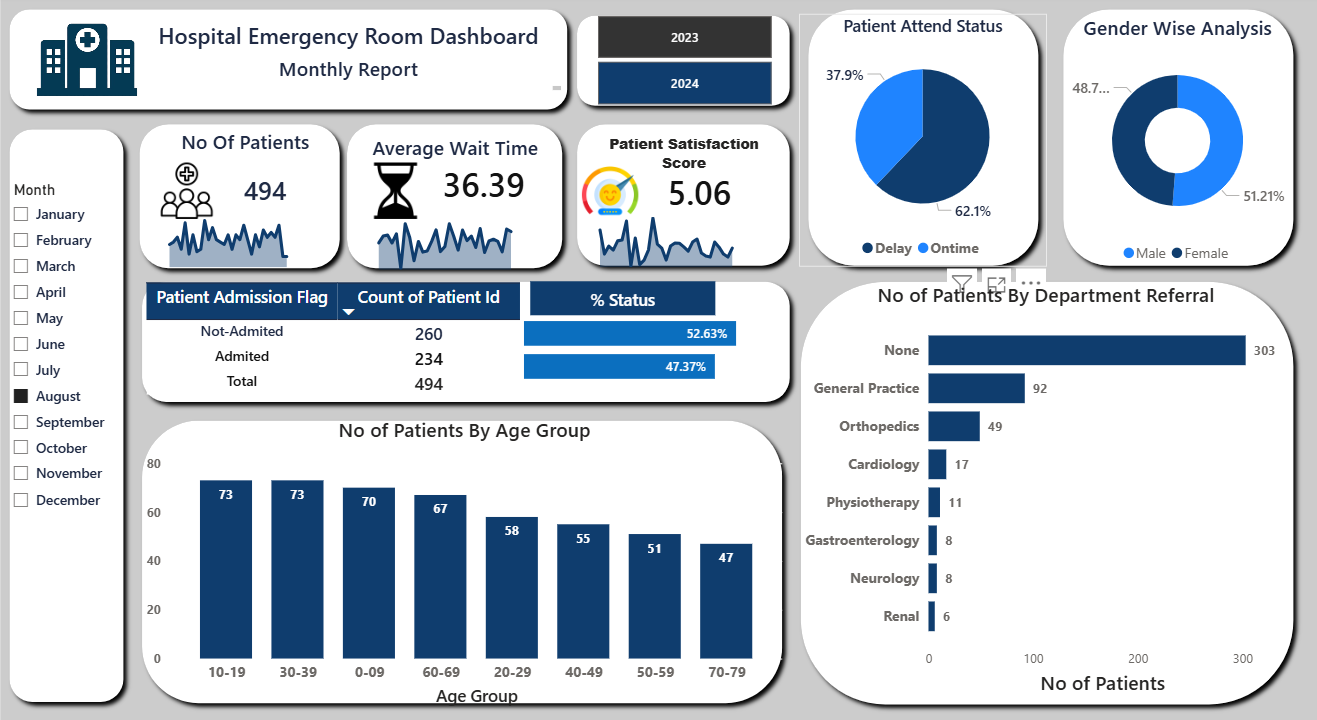

The dashboard page shown, as its layout file describes it:
{"tool":"powerbi","page":{"name":"Dashboard","canvas":[1280,720],"ordinal":1},"visuals":[{"type":"areaChart","fields":{"Category":["Hospital Emergency Room Data.Patient Age"]},"box":[11,0,1269.3,697],"z":0},{"type":"shape","box":[10.8,0,555.4,114.5],"z":1000},{"type":"shape","box":[557.8,6,222.9,104.8],"z":2000},{"type":"shape","box":[780.7,0,239.8,265.1],"z":3000},{"type":"shape","box":[10.8,115.7,127.7,569.9],"z":5000},{"type":"shape","box":[136.1,110.8,210.8,156.6],"z":6000},{"type":"shape","box":[336.1,110.8,225.3,156.6],"z":7000},{"type":"shape","box":[557.8,110.8,222.9,154.2],"z":8000},{"type":"shape","box":[138.6,396.4,634.9,290.4],"z":9000},{"type":"shape","box":[138.6,262.7,642.2,133.7],"z":10000},{"type":"shape","box":[773.5,262.7,492.8,425.3],"z":11000},{"type":"textbox","title":"Hospital Emergency Room Dashboard","box":[136.1,13.3,420.5,78.3],"z":12000},{"type":"image","box":[26.5,6,133.7,104.8],"z":13000},{"type":"textbox","box":[157.8,116.9,178.3,39.8],"z":14000},{"type":"textbox","box":[347,122.9,204.8,38.6],"z":15000},{"type":"textbox","box":[169,187.5,187.5,66],"z":16000},{"type":"cardVisual","fields":{"Data":["Count(Hospital Emergency Room Data.Patient Id)"]},"box":[220.5,156.6,115.7,54.2],"z":17000},{"type":"cardVisual","fields":{"Data":["Avg(Hospital Emergency Room Data.Patient Waittime)"]},"box":[408.4,144.6,148.2,66.3],"z":18000},{"type":"cardVisual","fields":{"Data":["Avg(Hospital Emergency Room Data.Patient Satisfaction Score)"]},"box":[625.3,151.8,148.2,66.3],"z":19000},{"type":"textbox","box":[569.9,122.9,200,55.4],"z":20000},{"type":"image","box":[569.9,156.6,57.8,54.2],"z":21000},{"type":"image","box":[160.2,156.6,60.2,54.2],"z":22000},{"type":"image","box":[361.4,156.6,60.2,54.2],"z":23000},{"type":"columnChart","title":"No of Patients By Age Group","fields":{"Category":["Hospital Emergency Room Data.Age Group"],"Y":["CountNonNull(Hospital Emergency Room Data.Age Group)"]},"box":[147,401.2,622.9,284.3],"z":31000},{"type":"pieChart","title":"Patient Attend Status","fields":{"Category":["Hospital Emergency Room Data.Patient attend status"],"Y":["CountNonNull(Hospital Emergency Room Data.Patient attend status)"]},"box":[780.7,13.3,238.6,244.6],"z":33000},{"type":"barChart","title":"No of Patients By Department Referral","fields":{"Category":["Hospital Emergency Room Data.Department Referral"],"Y":["CountNonNull(Hospital Emergency Room Data.Department Referral)"]},"box":[780.7,271.1,475.9,403.6],"z":37000},{"type":"stackedAreaChart","fields":{"Category":["Calendar_Table.Date.Variation.Date Hierarchy.Day"],"Y":["Count(Hospital Emergency Room Data.Patient Id)"]},"box":[155.4,196.4,180.7,66.3],"z":40001},{"type":"slicer","fields":{"Values":["Calendar_Table.Date.Variation.Date Hierarchy.Month"]},"box":[10.8,169.9,116.9,495.2],"z":40002},{"type":"stackedAreaChart","fields":{"Category":["Calendar_Table.Date.Variation.Date Hierarchy.Day"],"Y":["Avg(Hospital Emergency Room Data.Patient Waittime)"]},"box":[356.6,198.8,200,66.3],"z":40003},{"type":"stackedAreaChart","fields":{"Category":["Calendar_Table.Date.Variation.Date Hierarchy.Day"],"Y":["Avg(Hospital Emergency Room Data.Patient Satisfaction Score)"]},"box":[569.9,196.4,200,66.3],"z":40004},{"type":"shape","box":[1026.5,0,239.8,265.1],"z":40005},{"type":"donutChart","title":"Gender Wise Analysis","fields":{"Category":["Hospital Emergency Room Data.Patient Gender"],"Y":["CountNonNull(Hospital Emergency Room Data.Patient Gender)"]},"box":[1034.9,13.3,221.7,249.4],"z":40006},{"type":"pivotTable","fields":{"Rows":["Hospital Emergency Room Data.Patient Admission Flag"],"Values":["Count(Hospital Emergency Room Data.Patient Id)"]},"box":[147,267.5,622.9,120.5],"z":40007},{"type":"barChart","title":"% Status","fields":{"Y":["CountNonNull(Hospital Emergency Room Data.Patient Admission Flag)"],"Category":["Hospital Emergency Room Data.Patient Admission Flag"]},"box":[510.8,280.7,259,107.2],"z":40008},{"type":"textbox","box":[521.7,271.1,178.3,32.5],"z":40009},{"type":"slicer","fields":{"Values":["Calendar_Table.Date.Variation.Date Hierarchy.Year"]},"box":[566.3,13.3,207.2,89.2],"z":40010}]}

Visuals, with their boxes in screenshot pixels (x1, y1, x2, y2), scaled from the page's 1280x720 canvas onto the 1317x720 screenshot:
areaChart - Hospital Emergency Room Data.Patient Age: (11, 0, 1316, 697)
shape: (11, 0, 583, 114)
shape: (574, 6, 803, 111)
shape: (803, 0, 1050, 265)
shape: (11, 116, 143, 686)
shape: (140, 111, 357, 267)
shape: (346, 111, 578, 267)
shape: (574, 111, 803, 265)
shape: (143, 396, 796, 687)
shape: (143, 263, 803, 396)
shape: (796, 263, 1303, 688)
"Hospital Emergency Room Dashboard" textbox: (140, 13, 573, 92)
image: (27, 6, 165, 111)
textbox: (162, 117, 346, 157)
textbox: (357, 123, 568, 162)
textbox: (174, 188, 367, 254)
cardVisual - Count(Hospital Emergency Room Data.Patient Id): (227, 157, 346, 211)
cardVisual - Avg(Hospital Emergency Room Data.Patient Waittime): (420, 145, 573, 211)
cardVisual - Avg(Hospital Emergency Room Data.Patient Satisfaction Score): (643, 152, 796, 218)
textbox: (586, 123, 792, 178)
image: (586, 157, 646, 211)
image: (165, 157, 227, 211)
image: (372, 157, 434, 211)
"No of Patients By Age Group" columnChart: (151, 401, 792, 686)
"Patient Attend Status" pieChart: (803, 13, 1049, 258)
"No of Patients By Department Referral" barChart: (803, 271, 1293, 675)
stackedAreaChart - Calendar_Table.Date.Variation.Date Hierarchy.Day x Count(Hospital Emergency Room Data.Patient Id): (160, 196, 346, 263)
slicer - Calendar_Table.Date.Variation.Date Hierarchy.Month: (11, 170, 131, 665)
stackedAreaChart - Calendar_Table.Date.Variation.Date Hierarchy.Day x Avg(Hospital Emergency Room Data.Patient Waittime): (367, 199, 573, 265)
stackedAreaChart - Calendar_Table.Date.Variation.Date Hierarchy.Day x Avg(Hospital Emergency Room Data.Patient Satisfaction Score): (586, 196, 792, 263)
shape: (1056, 0, 1303, 265)
"Gender Wise Analysis" donutChart: (1065, 13, 1293, 263)
pivotTable - Hospital Emergency Room Data.Patient Admission Flag x Count(Hospital Emergency Room Data.Patient Id): (151, 268, 792, 388)
"% Status" barChart: (526, 281, 792, 388)
textbox: (537, 271, 720, 304)
slicer - Calendar_Table.Date.Variation.Date Hierarchy.Year: (583, 13, 796, 102)
